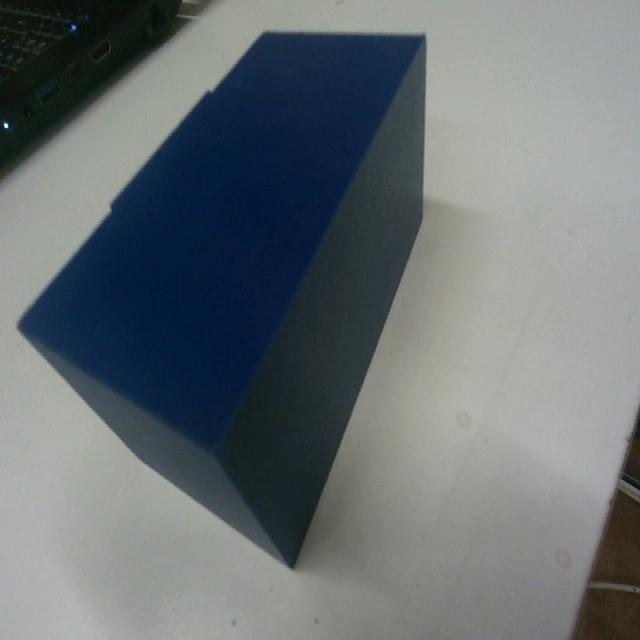Blue Cuboid: (16, 27, 428, 568)
